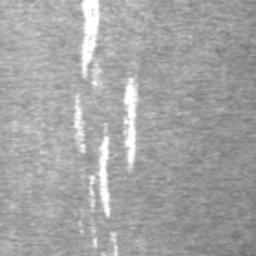White rust: (88, 121, 112, 217), (82, 0, 104, 87), (122, 73, 140, 173), (73, 90, 87, 154), (109, 229, 119, 256), (90, 225, 98, 250)
